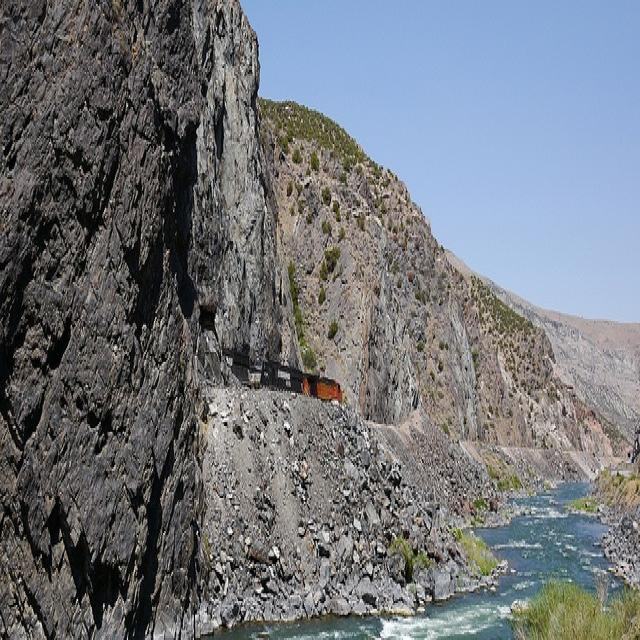truck: (315, 374, 341, 401)
